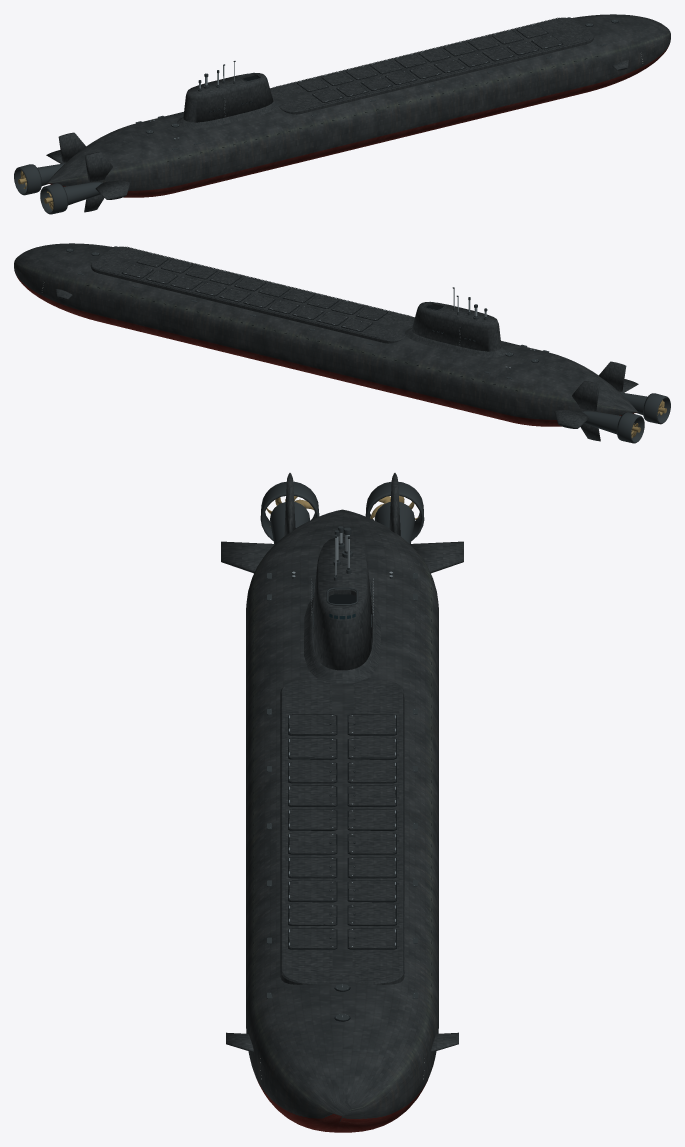
Rendered from RU_SSBN_Typhoon_LOD3.fbx.
3 views of the same model, one above another, from view 1: azimuth 30°, elevation 25°; view 2: azimuth 150°, elevation 25°; view 3: azimuth 270°, elevation 25° (orthographic). The views are drawn at different scales.
Visible parts, largest first — view 1: SM_Typhoon_LOD3; view 2: SM_Typhoon_LOD3; view 3: SM_Typhoon_LOD3.
Boxes of the visible parts, x1,y1,x2,y2 form: SM_Typhoon_LOD3: (14, 14, 670, 214); SM_Typhoon_LOD3: (14, 243, 670, 443); SM_Typhoon_LOD3: (221, 473, 463, 1132).
Bounding box in the file's own units: 175 × 29 × 28.31.
